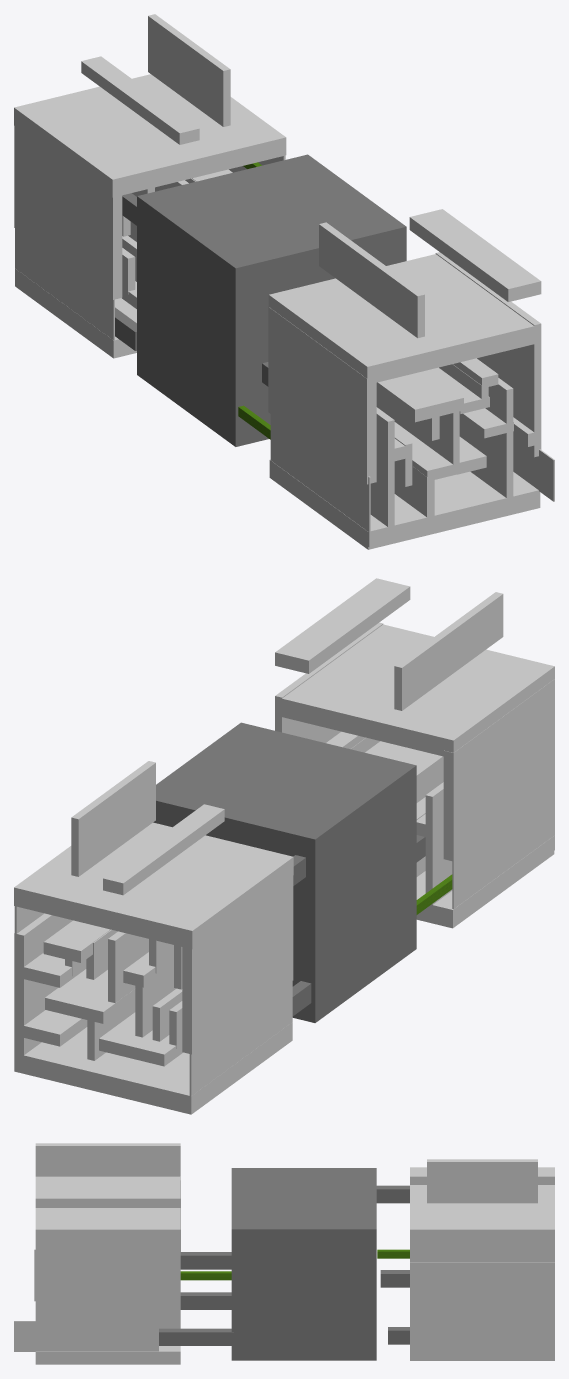
Rendered from PUZZLEBLENDERSTPMARCHE.fbx.
The picture shows the model from 3 angles, top to bottom: view 1: azimuth 30°, elevation 25°; view 2: azimuth 150°, elevation 25°; view 3: azimuth 270°, elevation 25°; orthographic projection. The views are drawn at different scales.
Visible parts, largest first — view 1: VraiPuzzle__1_, Cube__23__1, Cube, Cube__25_, Cube__3_, Cube__22__1, Cube__9_, Cube__26_, Cube__36_, Cube__24_, Cube__42_, Cube__22_ (+18 smaller); view 2: VraiPuzzle__1_, Cube__23__1, Cube, Cube__25_, Cube__3_, Cube__1111_, Cube__26_, Cube__9_, Cube__36_, Cube__24_, Cube__22_, Cube__13_ (+17 smaller); view 3: VraiPuzzle__1_, Cube__42_, Cube__2_, Cube, Cube__9_, Cube__26_, Cube__23__1, Cube__23_, Cube__36_, Cube__21_, Cube__22__1, Cube2 (+8 smaller).
Part boxes in pixels (x1,y1,x2,y2): VraiPuzzle__1_: (137,154,406,446); Cube__23__1: (268,254,540,384); Cube: (14,74,286,197); Cube__25_: (268,307,376,484); Cube__3_: (14,126,122,299); Cube__22__1: (269,459,540,549); Cube__9_: (148,14,230,126); Cube__26_: (319,222,424,338); Cube__36_: (409,209,541,301); Cube__24_: (270,414,370,547); Cube__42_: (435,252,541,457); Cube__22_: (15,228,114,350); VraiPuzzle__1_: (153,722,416,1022); Cube__23__1: (275,624,554,756); Cube: (14,822,293,949); Cube__25_: (443,679,554,861); Cube__3_: (182,876,293,1054); Cube__1111_: (14,1022,292,1114); Cube__26_: (394,592,503,710); Cube__9_: (71,761,155,876); Cube__36_: (275,578,410,673); Cube__24_: (452,787,554,908); Cube__22_: (189,981,292,1107); Cube__13_: (103,804,224,895); VraiPuzzle__1_: (231,1168,376,1360); Cube__42_: (35,1227,180,1326); Cube__2_: (410,1262,554,1360); Cube: (410,1167,554,1242); Cube__9_: (427,1159,537,1203); Cube__26_: (35,1143,180,1176); Cube__23__1: (35,1176,180,1227); Cube__23_: (14,1321,158,1351); Cube__36_: (35,1186,180,1207); Cube__21_: (410,1242,554,1261); Cube__22__1: (35,1346,180,1364); Cube2: (159,1328,233,1345).
Bounding box in the file's own units: 102 × 142 × 373.
3 materials, 1 textured.
